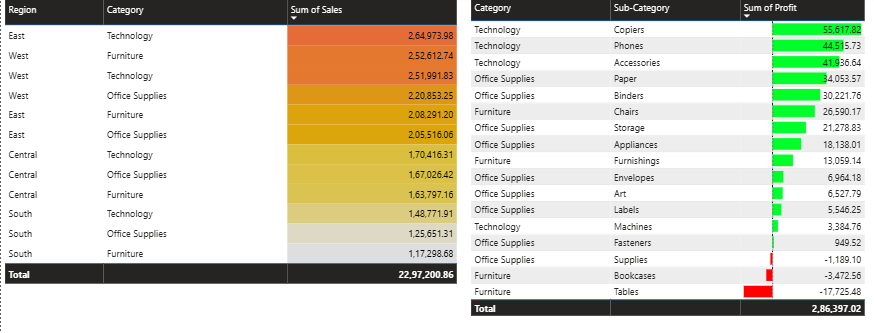

The page's visual inventory and layout, read from the dashboard file:
{"tool":"powerbi","page":{"name":"Page 4","canvas":[1280,720],"ordinal":3},"visuals":[{"type":"tableEx","fields":{"Values":["Sample - Superstore.Region","Sample - Superstore.Category","Sum(Sample - Superstore.Sales)"]},"box":[0,0,682.5,603.6],"z":0},{"type":"tableEx","fields":{"Values":["Sample - Superstore.Category","Sample - Superstore.Sub-Category","Sum(Sample - Superstore.Profit)"]},"box":[682.5,0,597.5,720.4],"z":1}]}

Visuals, with their boxes on the page's 1280x720 design canvas (x1, y1, x2, y2). These are canvas units, not pixel positions in the 874x333 screenshot, which may show the page scaled, cropped or inside an application window:
tableEx - Sample - Superstore.Region x Sample - Superstore.Category: select_region(0, 0, 682, 604)
tableEx - Sample - Superstore.Category x Sample - Superstore.Sub-Category: select_region(682, 0, 1280, 720)
